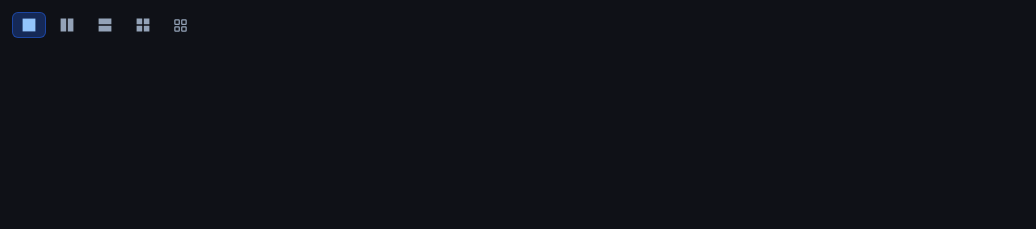
Test case: LayoutPicker — custom grid popover › increments rows when the Rows + button is clicked
The width and height of the screenshot is (1036, 229).
Click the button named "Custom grid" at (180, 25), box [164,12,197,38]
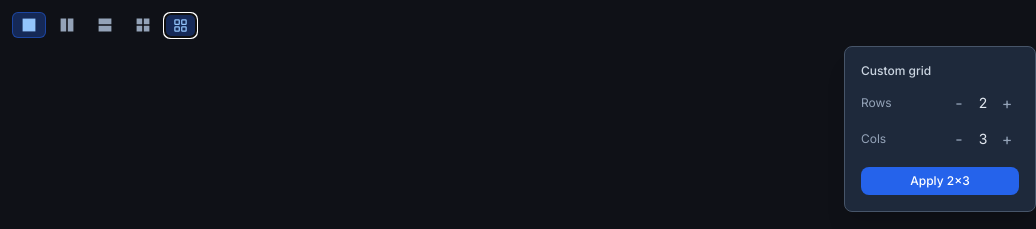
# Rows control: the + button follows the "Rows" label
Click the button "+" in the row of "Rows" at (1007, 103), box [995,91,1019,115]
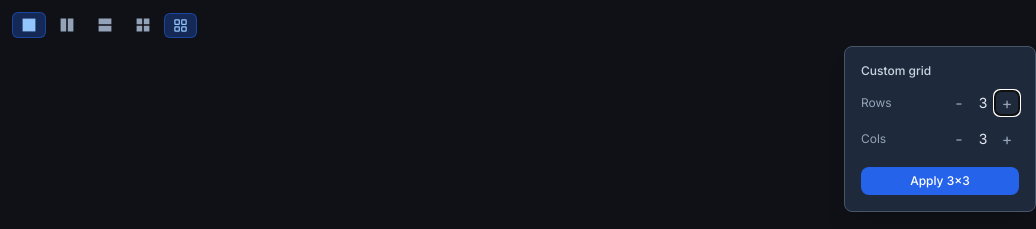
Check: the button "Apply 3x3" is shown, box [861,167,1019,195]
